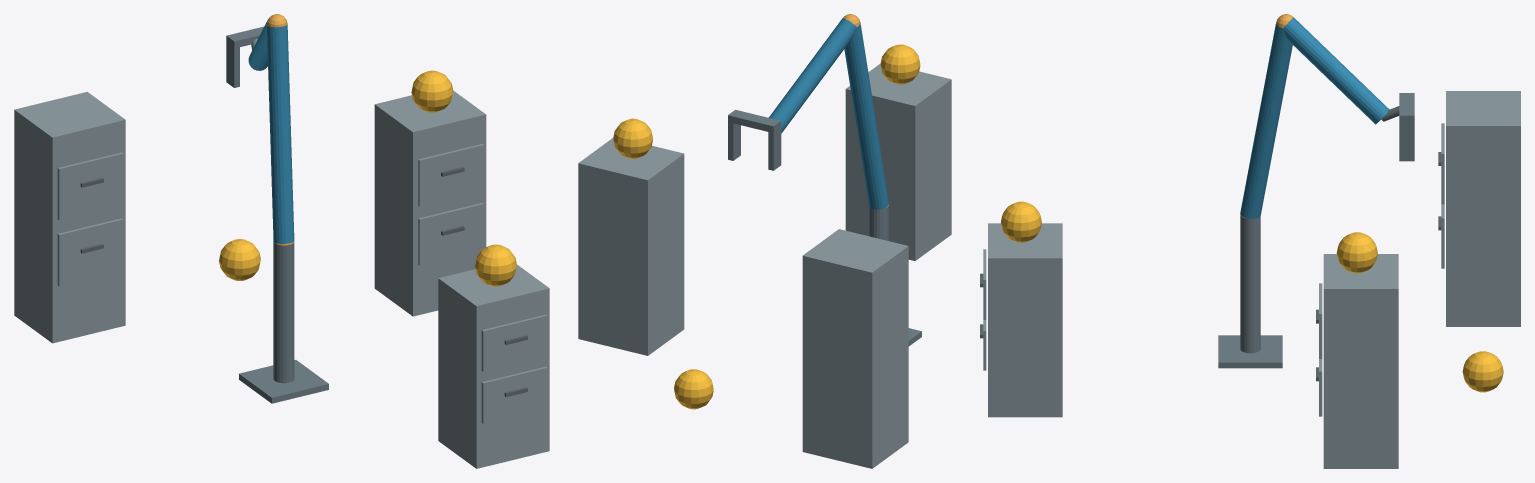
3 renders of one model, left to right at view 1: azimuth 30°, elevation 25°; view 2: azimuth 150°, elevation 25°; view 3: azimuth 270°, elevation 25°, orthographic. The views are drawn at different scales.
Visible parts, largest first — view 1: cabinet_3 body, cabinet_2 body, cabinet_1 body, moving link 1, cabinet_3 drawer front.001, cabinet_3 drawer front, cabinet_2 drawer front.001, cabinet_2 drawer front, fixed post, cabinet_1 drawer front.001, cabinet_1 drawer front, pedestal (+5 smaller); view 2: cabinet_3 body, cabinet_2 body, cabinet_1 body, moving link 1, moving link 2, released ball_1, released ball_2, ball ball_3, gripper bridge, fixed post, gripper finger -1, gripper finger 1; view 3: cabinet_3 body, cabinet_2 body, cabinet_1 body, moving link 1, fixed post, moving link 2, pedestal, released ball_2, released ball_1, ball ball_3, gripper finger 1.
Part boxes in pixels (x1=…): cabinet_3 body: x1=14, y1=91, x2=125, y2=343; cabinet_2 body: x1=374, y1=90, x2=486, y2=316; cabinet_1 body: x1=438, y1=264, x2=549, y2=468; moving link 1: x1=266, y1=24, x2=294, y2=243; cabinet_3 drawer front.001: x1=57, y1=152, x2=123, y2=220; cabinet_3 drawer front: x1=57, y1=218, x2=123, y2=286; cabinet_2 drawer front.001: x1=418, y1=144, x2=484, y2=206; cabinet_2 drawer front: x1=418, y1=203, x2=484, y2=265; fixed post: x1=273, y1=241, x2=294, y2=383; cabinet_1 drawer front.001: x1=481, y1=314, x2=547, y2=371; cabinet_1 drawer front: x1=481, y1=366, x2=547, y2=423; pedestal: x1=239, y1=360, x2=328, y2=403; cabinet_3 body: x1=802, y1=229, x2=908, y2=468; cabinet_2 body: x1=578, y1=138, x2=684, y2=355; cabinet_1 body: x1=845, y1=63, x2=951, y2=260; moving link 1: x1=844, y1=22, x2=888, y2=209; moving link 2: x1=768, y1=18, x2=856, y2=133; released ball_1: x1=880, y1=44, x2=920, y2=84; released ball_2: x1=613, y1=118, x2=652, y2=158; ball ball_3: x1=674, y1=369, x2=713, y2=409; gripper bridge: x1=728, y1=109, x2=781, y2=132; fixed post: x1=869, y1=206, x2=888, y2=240; gripper finger -1: x1=768, y1=128, x2=781, y2=170; gripper finger 1: x1=728, y1=122, x2=740, y2=160; cabinet_3 body: x1=1446, y1=91, x2=1520, y2=326; cabinet_2 body: x1=1323, y1=254, x2=1398, y2=468; cabinet_1 body: x1=988, y1=223, x2=1062, y2=417; moving link 1: x1=1240, y1=22, x2=1292, y2=219; fixed post: x1=1240, y1=215, x2=1260, y2=353; moving link 2: x1=1283, y1=17, x2=1389, y2=124; pedestal: x1=1218, y1=335, x2=1282, y2=368; released ball_2: x1=1336, y1=232, x2=1377, y2=273; released ball_1: x1=1001, y1=201, x2=1041, y2=242; ball ball_3: x1=1462, y1=351, x2=1503, y2=392; gripper finger 1: x1=1399, y1=122, x2=1414, y2=161.
Bounding box in the file's own units: 1.62 × 1.48 × 2.1.
